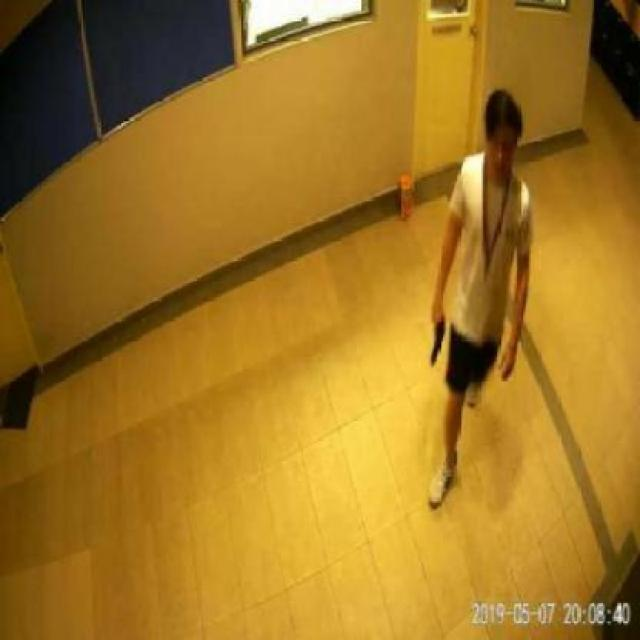gun: (428, 311, 444, 364)
